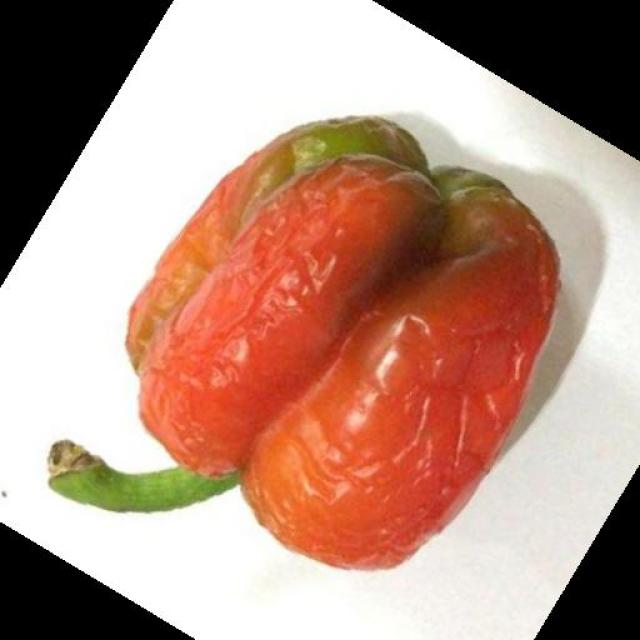Stale_Capsicum: (127, 86, 542, 538)
